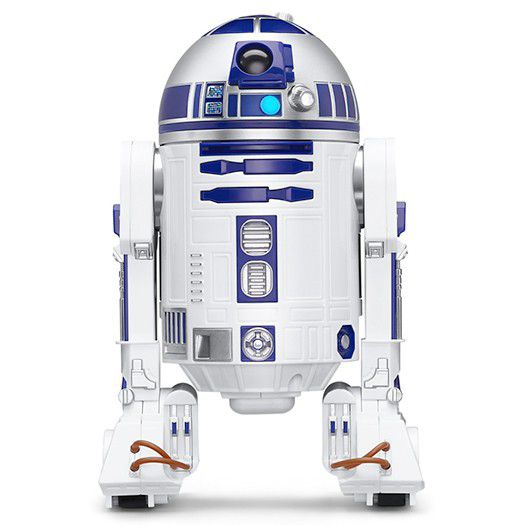r2d2: (109, 13, 424, 508)
